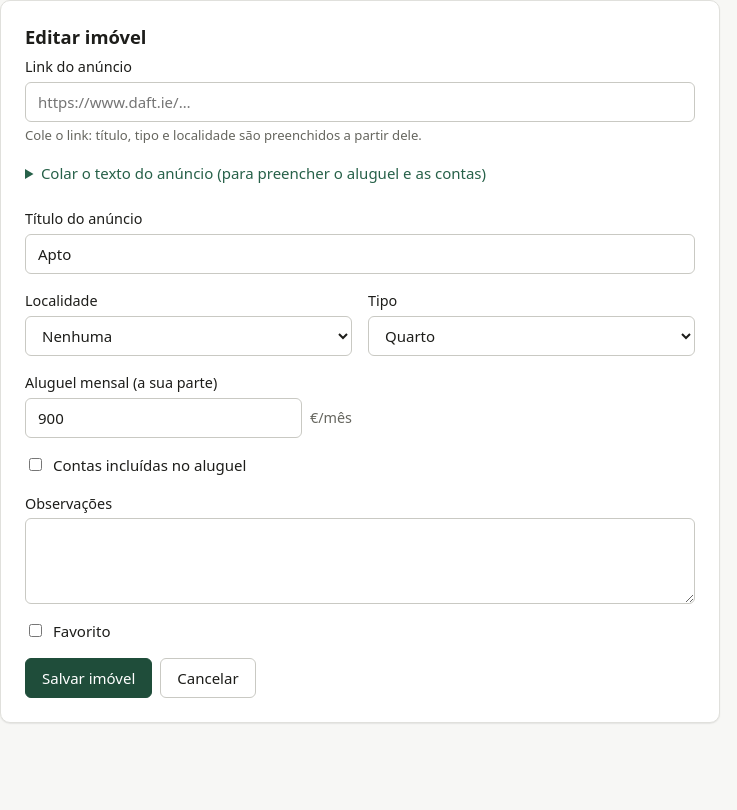
Test: PropertyForm (enxuto) › não salva com aluguel inválido e preserva campos antigos ao salvar
Later steps or results of the test are not shown.
Replace the text in the field labelled "Aluguel mensal (a sua parte)" with "-1". click: x=163, y=418
box: x1=25 y1=398 x2=302 y2=438
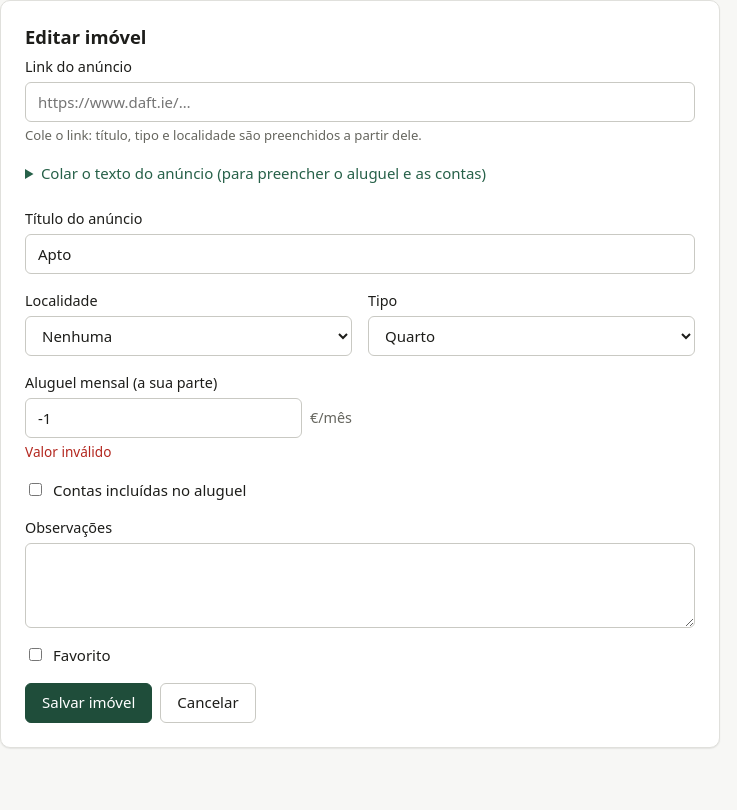
Click the button "Salvar imóvel". click: x=89, y=703
box: x1=25 y1=683 x2=152 y2=723
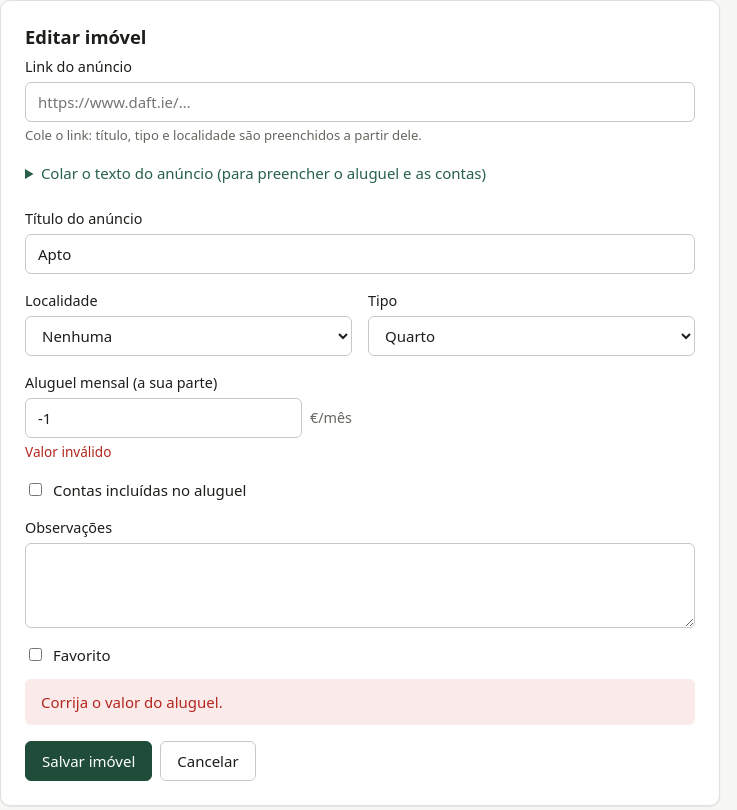
Result: the text "Corrija o valor do aluguel." is shown at x1=25 y1=679 x2=695 y2=725
